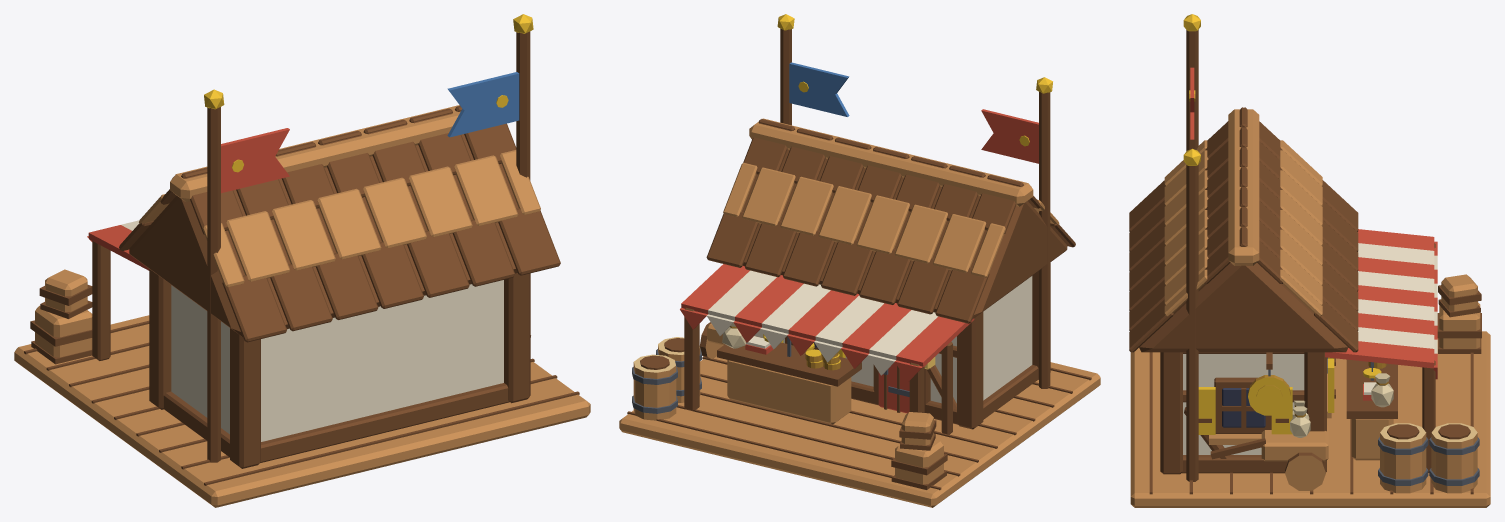
File: trading_post_l2.fbx
The picture shows the model from 3 angles, left to right: view 1: azimuth 30°, elevation 25°; view 2: azimuth 150°, elevation 25°; view 3: azimuth 270°, elevation 25°; orthographic projection. The views are drawn at different scales.
Parts seen in each view (by area): view 1: trading_post_l2, Flag, Flag_2; view 2: trading_post_l2, Flag, Flag_2; view 3: trading_post_l2, Sign.
Boxes of the visible parts, left/top/right/bottom form: trading_post_l2: left=14, top=14, right=590, bottom=507; Flag: left=447, top=72, right=519, bottom=137; Flag_2: left=221, top=128, right=289, bottom=193; trading_post_l2: left=619, top=14, right=1100, bottom=507; Flag: left=789, top=62, right=849, bottom=116; Flag_2: left=981, top=109, right=1038, bottom=163; trading_post_l2: left=1129, top=14, right=1490, bottom=507; Sign: left=1248, top=375, right=1290, bottom=415.
Bounding box in the file's own units: 0.912 × 0.8904 × 0.843.
